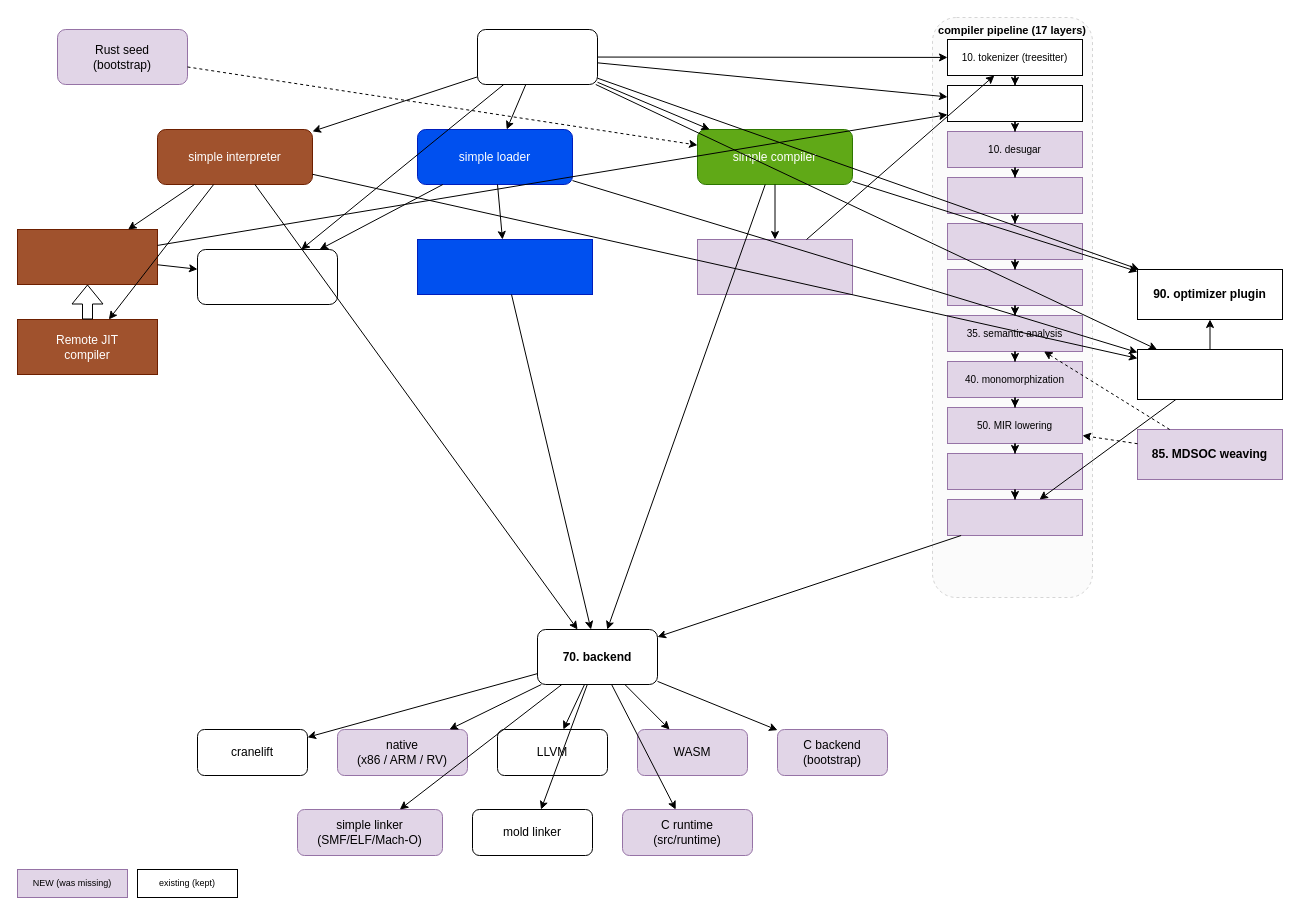
Image size: 1300x915. Some labels were removed from this diagram. The shapes that lost their labels are listed below. From the top down, each one's box as (x1, y1, x2, y2) in pixels, then its label:
(476, 28, 598, 84): simple
(946, 84, 1082, 122): 10. parser
(946, 176, 1082, 214): 20. HIR lowering
(16, 228, 158, 284): JIT compiler
(946, 222, 1082, 260): 25. trait solver
(196, 248, 338, 304): binary placer / loader
(416, 238, 592, 294): compile daemon (simple loader)
(696, 238, 852, 294): 80. driver / pipeline
(946, 268, 1082, 306): 30. type checker
(1136, 348, 1282, 400): hotspot optimizer
(946, 452, 1082, 490): 55. borrow checker
(946, 498, 1082, 536): 60. MIR optimizer
